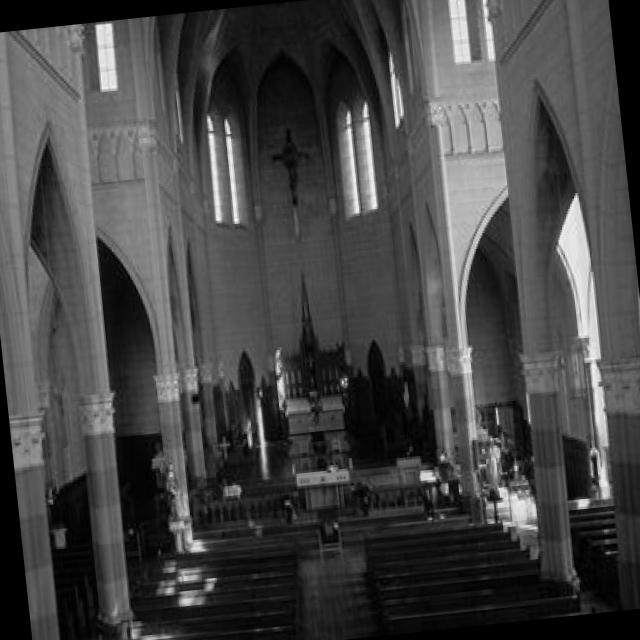2001: (359, 99, 377, 207), (342, 106, 359, 211), (204, 113, 220, 218), (91, 20, 114, 87), (223, 112, 237, 221), (446, 0, 468, 58)
altar: (292, 464, 347, 510)
altarpiece: (275, 274, 346, 395)
benchs: (362, 515, 585, 630), (89, 539, 300, 640), (567, 493, 618, 604), (52, 513, 96, 640)
cross: (270, 125, 305, 200)
floor -X: (294, 470, 618, 639), (198, 420, 457, 516), (120, 487, 170, 589)
steps: (187, 496, 473, 550)
vault: (157, 0, 409, 217)
wall clock: (201, 2, 474, 512), (487, 0, 640, 603), (0, 24, 129, 640), (78, 16, 228, 542), (414, 0, 534, 515), (549, 193, 611, 508), (27, 243, 86, 557), (97, 238, 165, 493)
